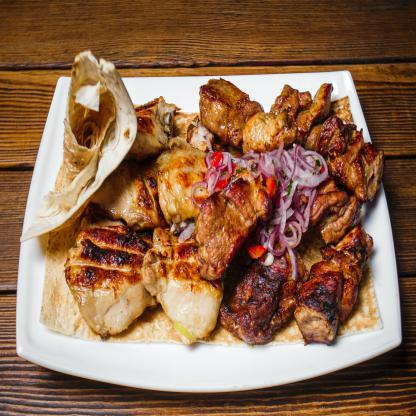Carne: (187, 152, 278, 274), (299, 218, 373, 350), (71, 211, 149, 330), (146, 227, 229, 338), (224, 245, 302, 343), (152, 146, 212, 230), (331, 134, 398, 203), (197, 78, 264, 141), (288, 90, 333, 146)
